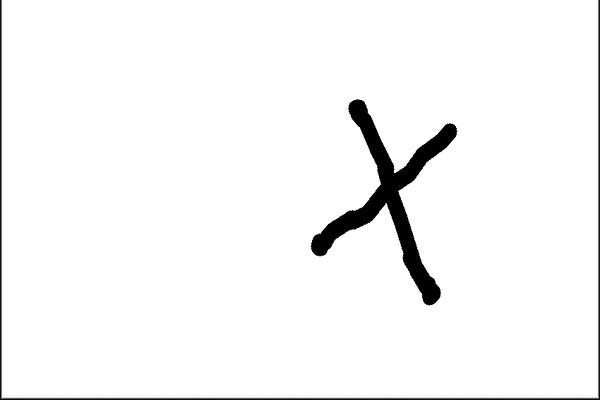X: (289, 82, 504, 316)
